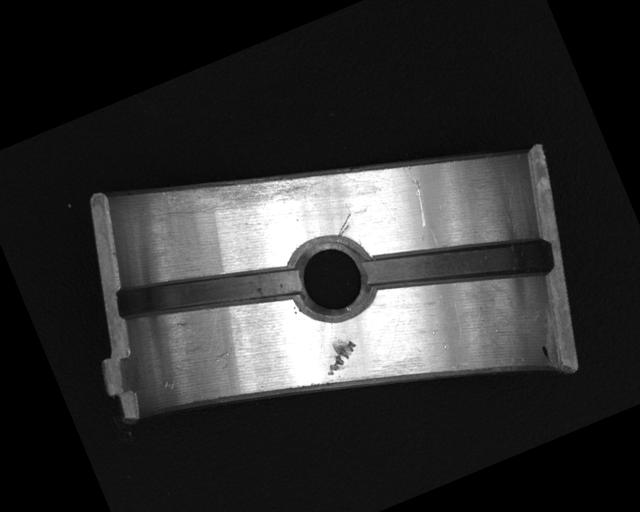blot: (538, 343, 552, 363)
bruise: (314, 332, 363, 377), (212, 344, 237, 363), (160, 378, 177, 394)
gap: (362, 194, 554, 335), (112, 226, 302, 354)
hole: (278, 224, 383, 329)
nick: (396, 162, 435, 229), (331, 213, 356, 236)
scratch: (154, 131, 329, 252)
